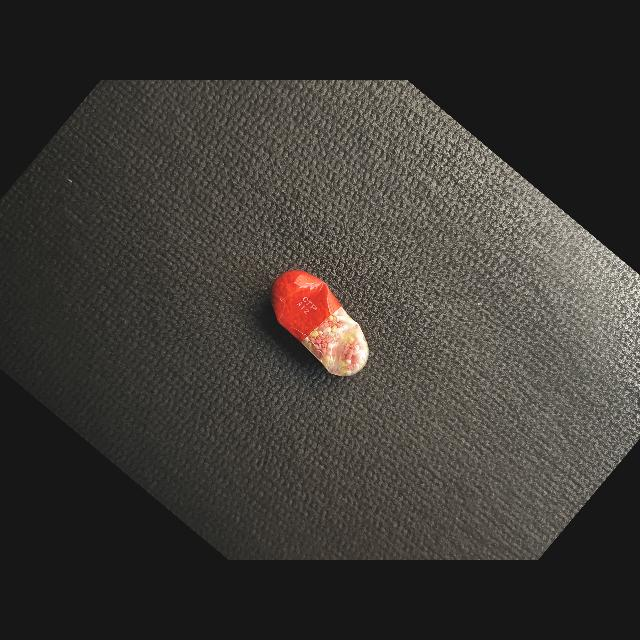Defective Capsule: (271, 270, 369, 376)
